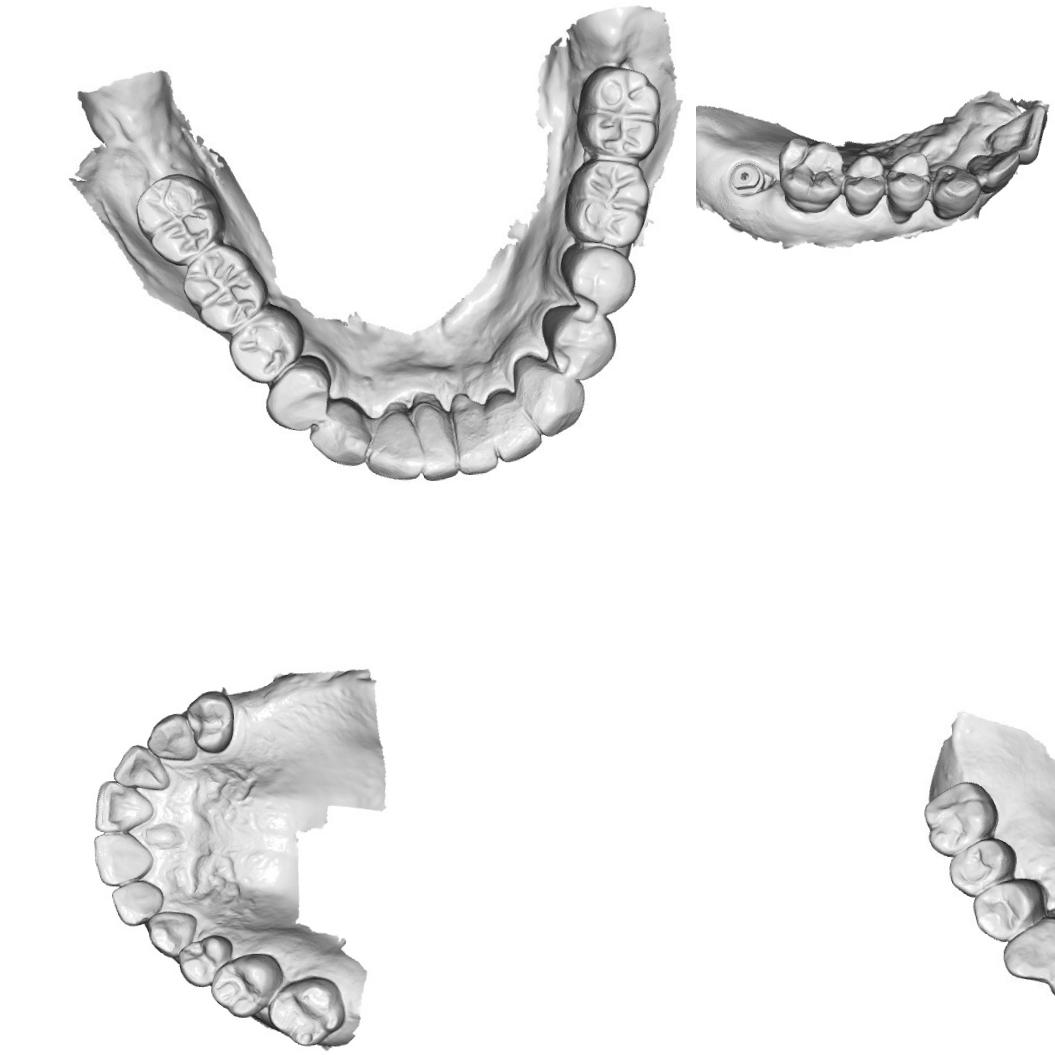canine: (514, 353, 589, 436), (308, 392, 370, 464), (927, 159, 983, 221), (1002, 921, 1055, 982), (143, 710, 198, 764), (143, 907, 199, 960)
implant: (726, 158, 765, 200)
incisor: (406, 390, 464, 483), (446, 389, 504, 474), (363, 402, 422, 482), (484, 386, 544, 464), (979, 102, 1050, 167), (90, 829, 156, 888), (91, 777, 156, 834), (109, 741, 170, 794), (109, 878, 167, 928), (964, 148, 1022, 195)
molar: (574, 62, 666, 168), (564, 151, 658, 250), (182, 244, 268, 332), (136, 174, 217, 262), (920, 778, 1002, 858), (264, 973, 347, 1049), (774, 131, 848, 214)
premolar: (258, 351, 334, 436), (560, 239, 637, 314), (543, 301, 617, 378), (206, 950, 285, 1020), (970, 874, 1050, 942), (231, 307, 297, 382), (944, 834, 1019, 900), (182, 686, 238, 755), (882, 148, 933, 218), (175, 932, 236, 988), (839, 150, 888, 218)
